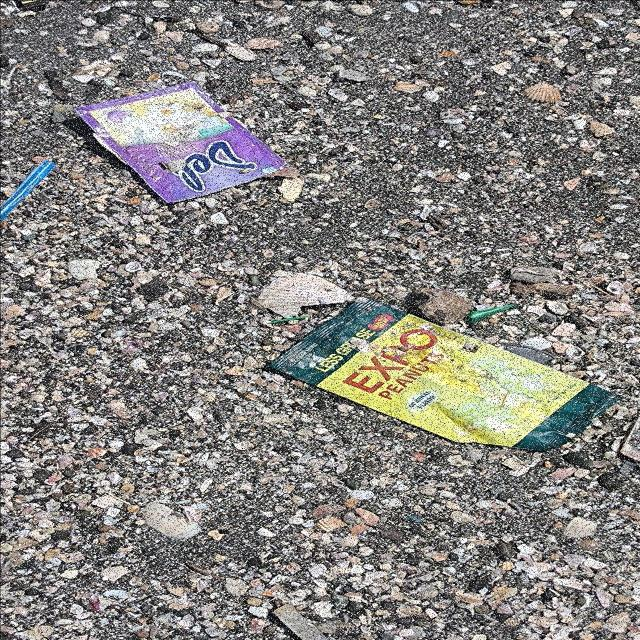plastic_waste: (267, 297, 625, 453), (73, 80, 289, 204)
